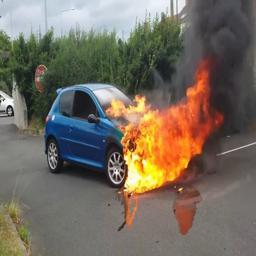fire: (104, 54, 224, 194)
